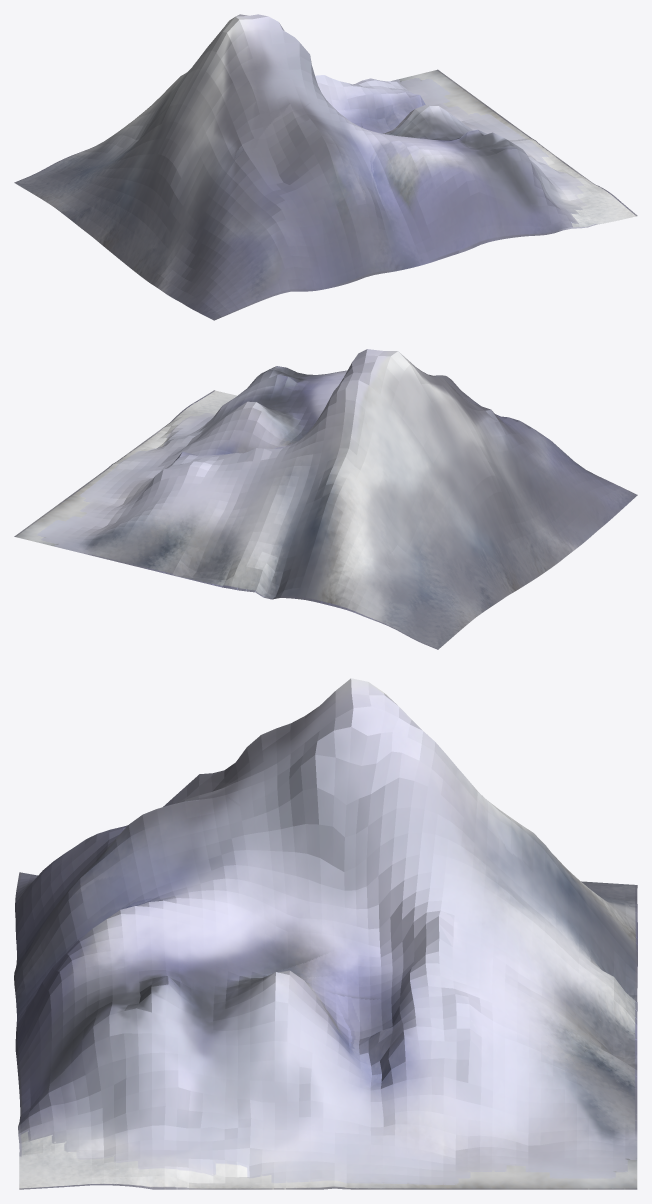
Rendered from mountain big.fbx.
The picture shows the model from 3 angles, top to bottom: view 1: azimuth 30°, elevation 25°; view 2: azimuth 150°, elevation 25°; view 3: azimuth 270°, elevation 25°; orthographic projection. The views are drawn at different scales.
Parts seen in each view (by area): view 1: Plane.012; view 2: Plane.012; view 3: Plane.012.
Part boxes in pixels (x1,y1,x2,y2): Plane.012: (14,14,637,320); Plane.012: (14,349,637,649); Plane.012: (14,678,637,1189).
Bounding box in the file's own units: 10351 × 4847 × 8538.
